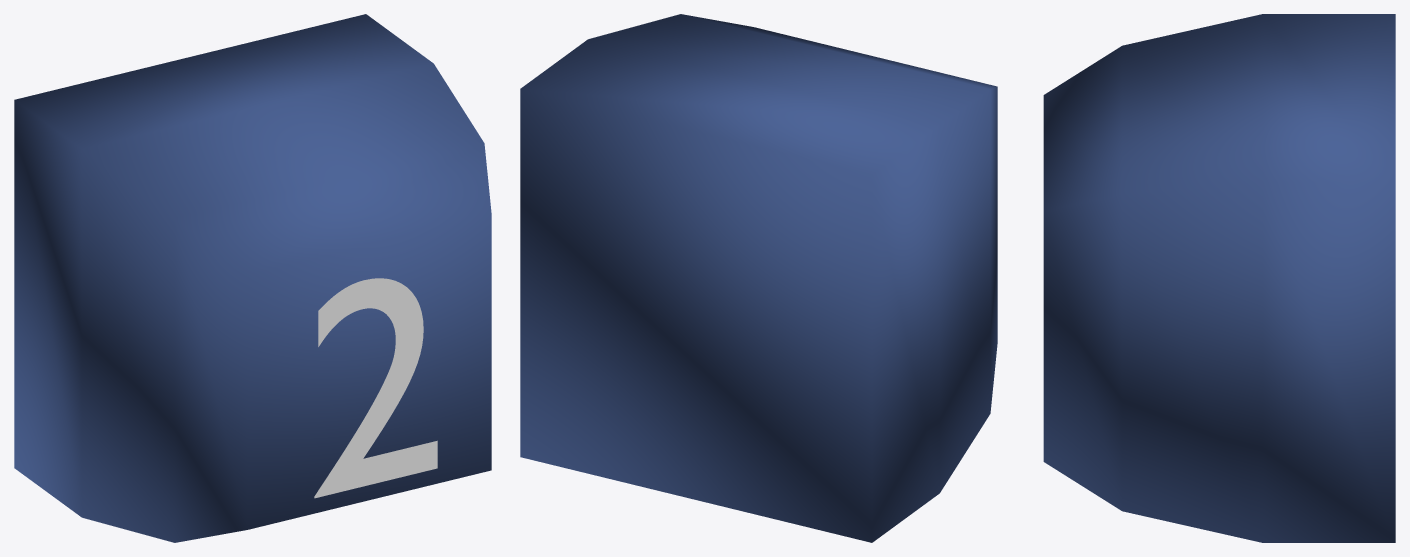
The model's file is lockbutton2.glb.
3 renders of one model, left to right at view 1: azimuth 30°, elevation 25°; view 2: azimuth 150°, elevation 25°; view 3: azimuth 270°, elevation 25°, orthographic. The views are drawn at different scales.
Visible parts, largest first — view 1: Text.001; view 2: Text.001; view 3: Text.001.
Part boxes in pixels (bbox=[...]): Text.001: bbox=[14, 14, 491, 542]; Text.001: bbox=[520, 14, 997, 542]; Text.001: bbox=[1043, 14, 1395, 542].
Size of the model in its own units: 0.0488 by 0.0488 by 0.0452.
